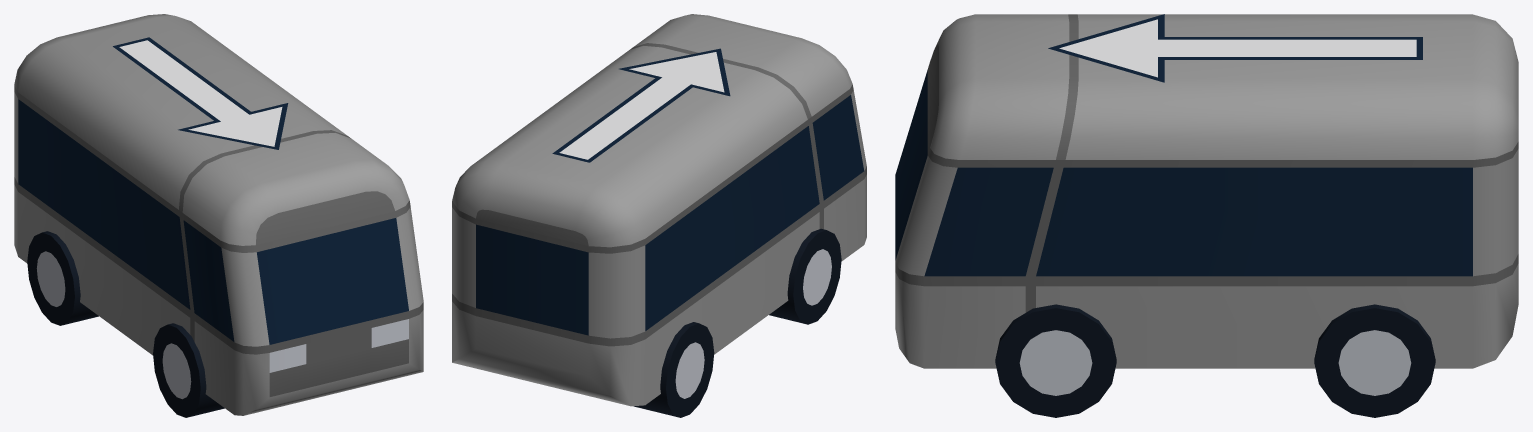
Rendered from MiddleBus.fbx.
3 renders of one model, left to right at view 1: azimuth 30°, elevation 25°; view 2: azimuth 150°, elevation 25°; view 3: azimuth 270°, elevation 25°, orthographic. The views are drawn at different scales.
Parts seen in each view (by area): view 1: Bus, Roof; view 2: Bus, Roof; view 3: Bus, Roof.
Part boxes in pixels (<box>): Bus: <box>14,86,423,417</box>; Roof: <box>14,14,409,245</box>; Bus: <box>452,84,866,417</box>; Roof: <box>452,14,852,247</box>; Bus: <box>895,62,1518,417</box>; Roof: <box>930,14,1518,159</box>.
Bounding box in the file's own units: 1.01 × 1.18 × 2.17.
